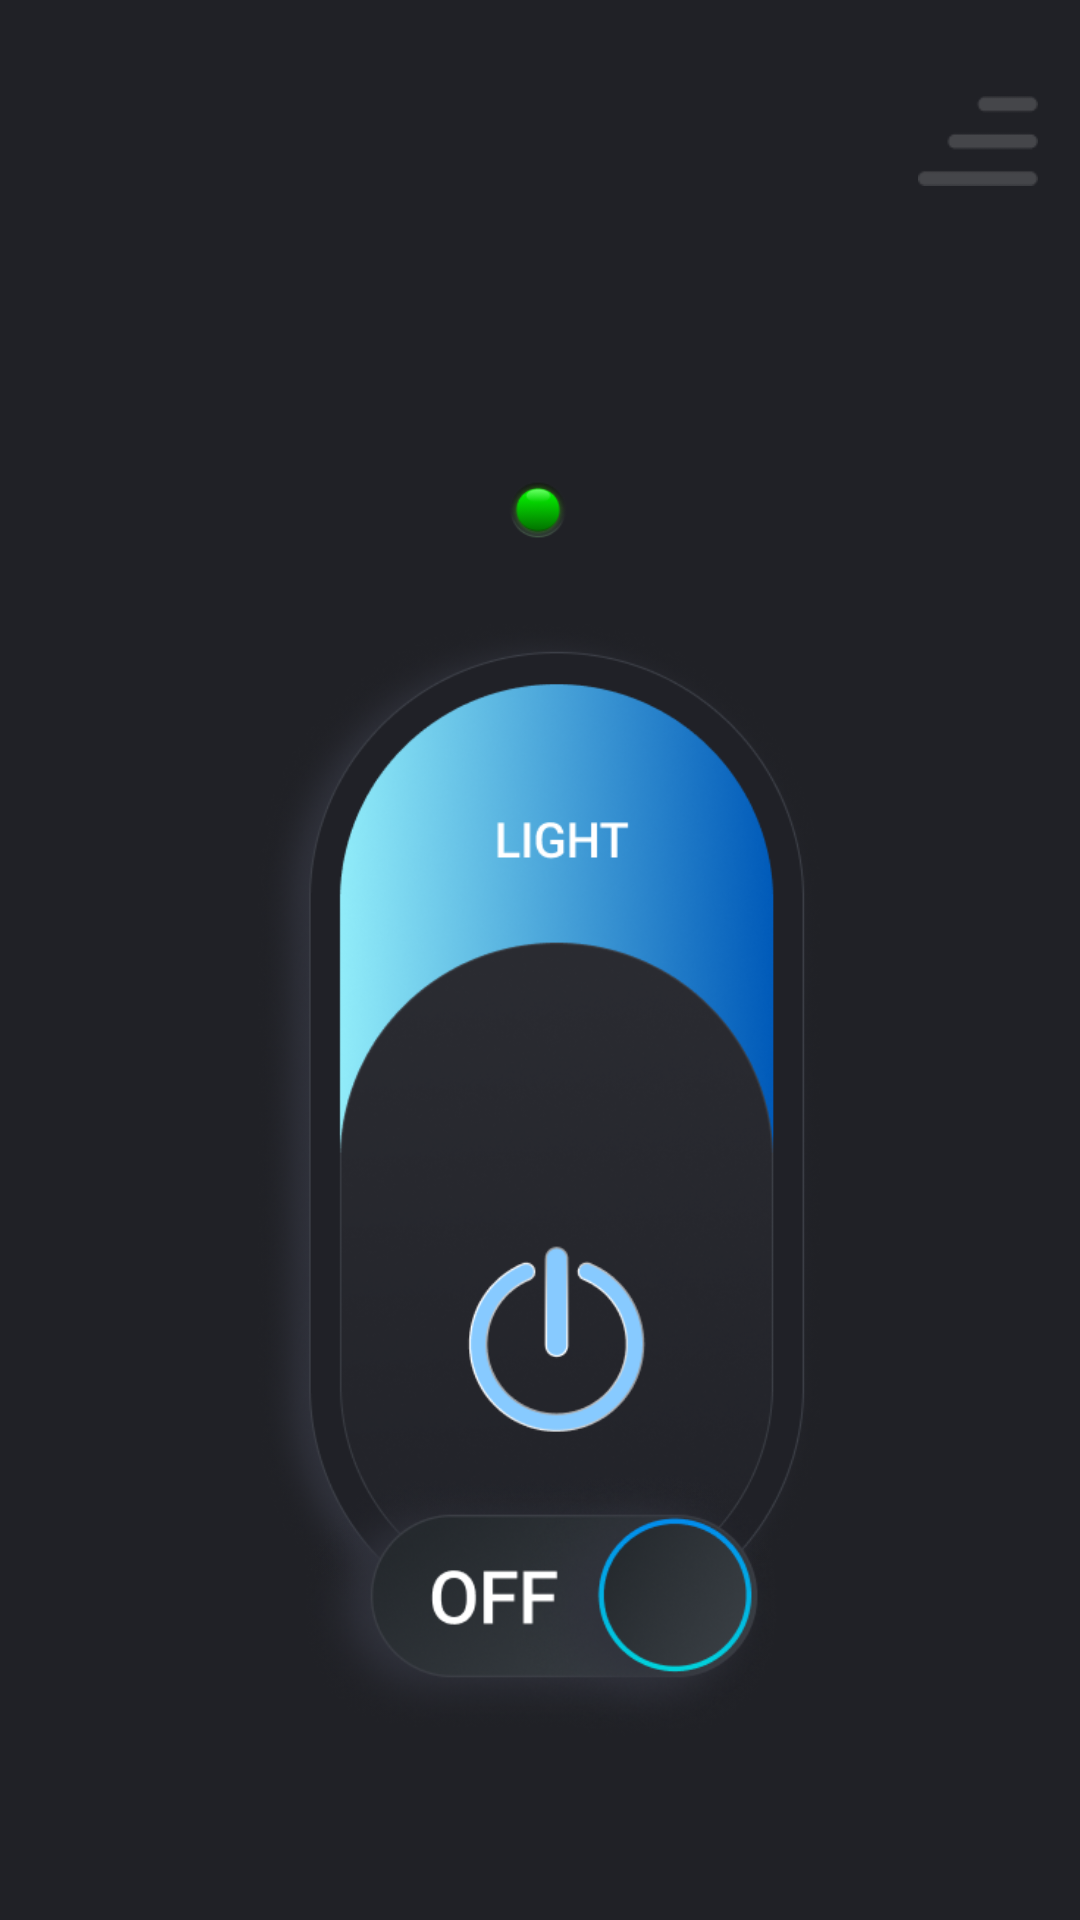

Where to tap for icons on this 1080*1920 app screen, as point (x, y):
hamburger: point (977, 142)
